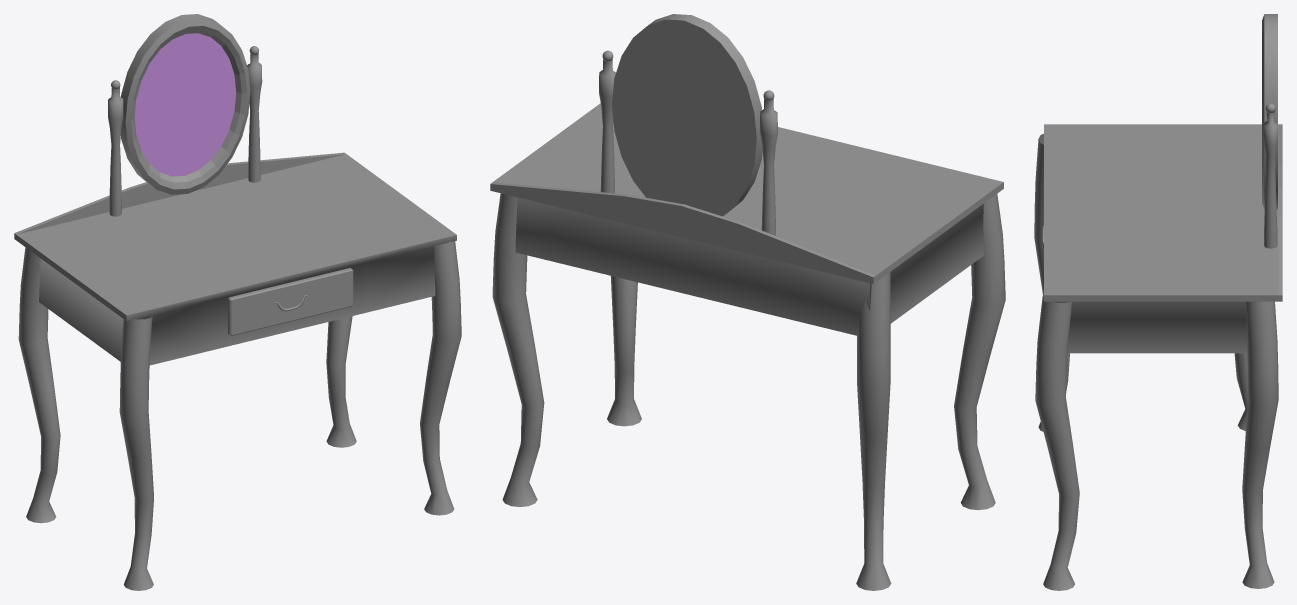
Rendered from Vanity.FBX.
3 views of the same model, side by side, from view 1: azimuth 30°, elevation 25°; view 2: azimuth 150°, elevation 25°; view 3: azimuth 270°, elevation 25° (orthographic). The views are drawn at different scales.
Parts seen in each view (by area): view 1: Vanity; view 2: Vanity; view 3: Vanity.
Part boxes in pixels (x1,y1,x2,y2): Vanity: [14, 14, 461, 590]; Vanity: [490, 14, 1005, 590]; Vanity: [1034, 14, 1282, 590].
Size of the model in its own units: 94.94 by 122 by 56.66.
